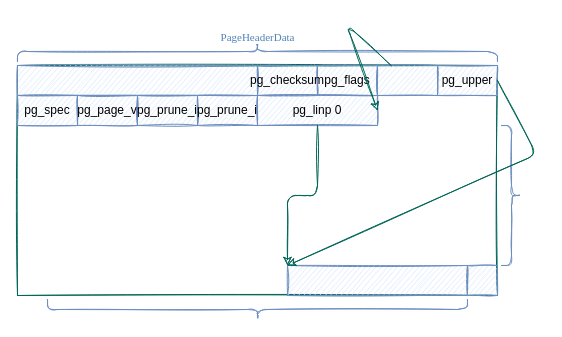
Some shapes in this 562 by 337 pixel diagram are drawn without their labels. The centre of each missing label's shape, as x and y in pixels:
"pd_lsn" goes at (137,80).
"pg_lower" goes at (407,80).
"spec" goes at (482,280).
"tuple1" goes at (377,280).
